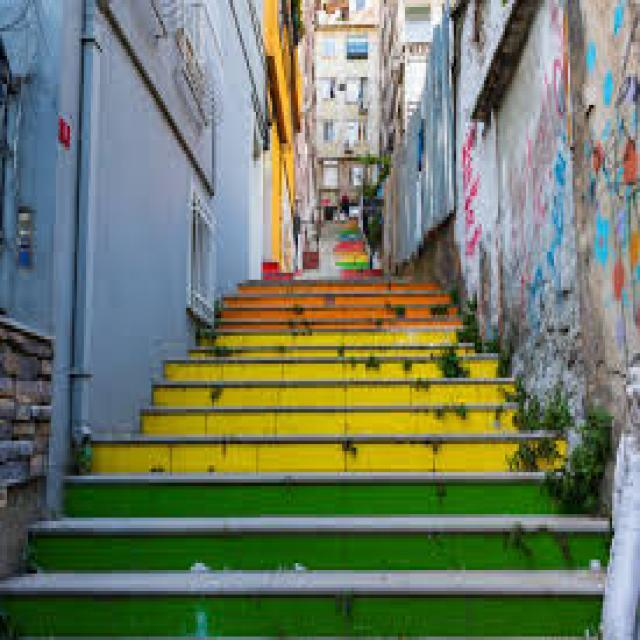Stair Up: (3, 279, 610, 638)
